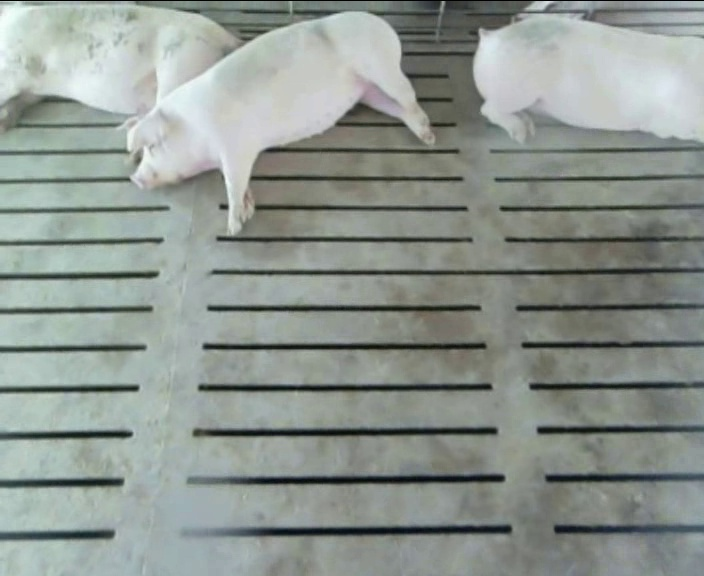pig: (115, 12, 434, 234), (0, 5, 239, 130), (473, 15, 703, 143)
